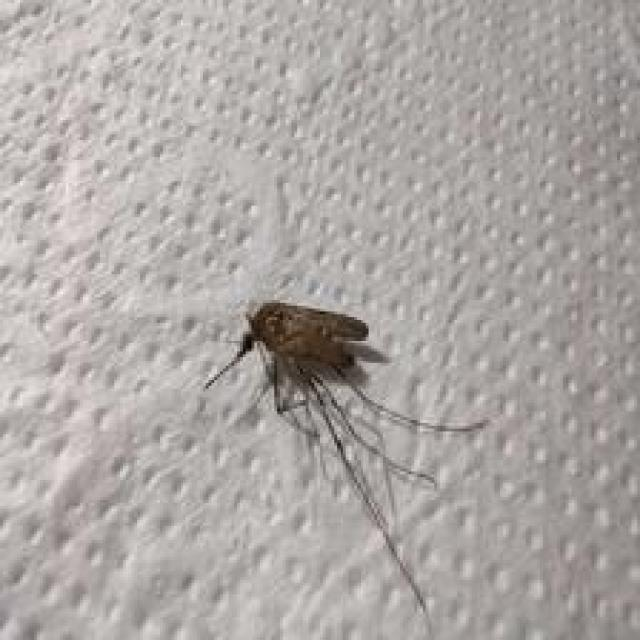Culex: (201, 298, 490, 636)
